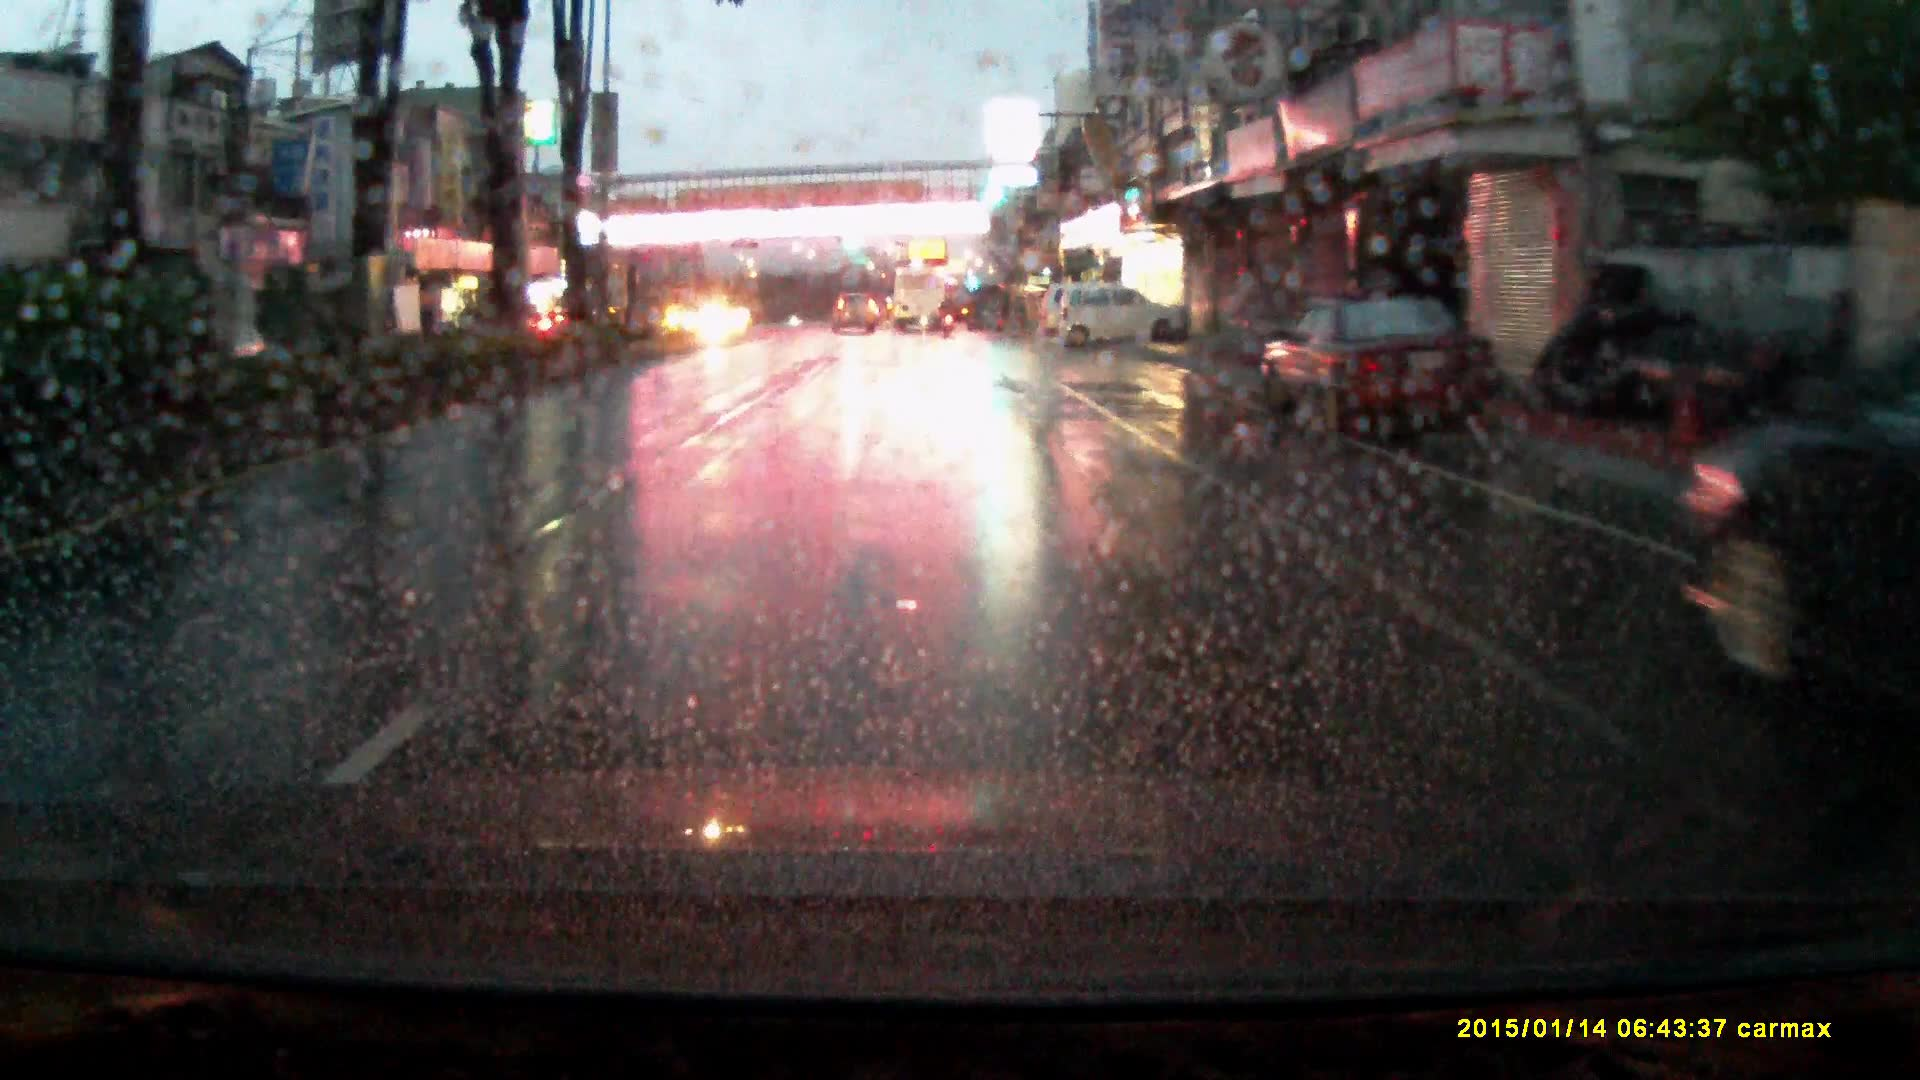vehicle: (1683, 382, 1920, 749), (1262, 301, 1503, 444), (1063, 282, 1188, 357), (893, 269, 948, 336), (1038, 286, 1083, 342), (833, 295, 880, 338)
